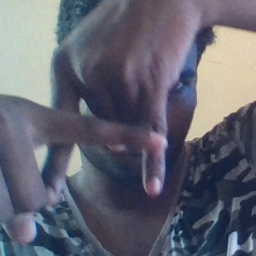H: (29, 69, 184, 196)
